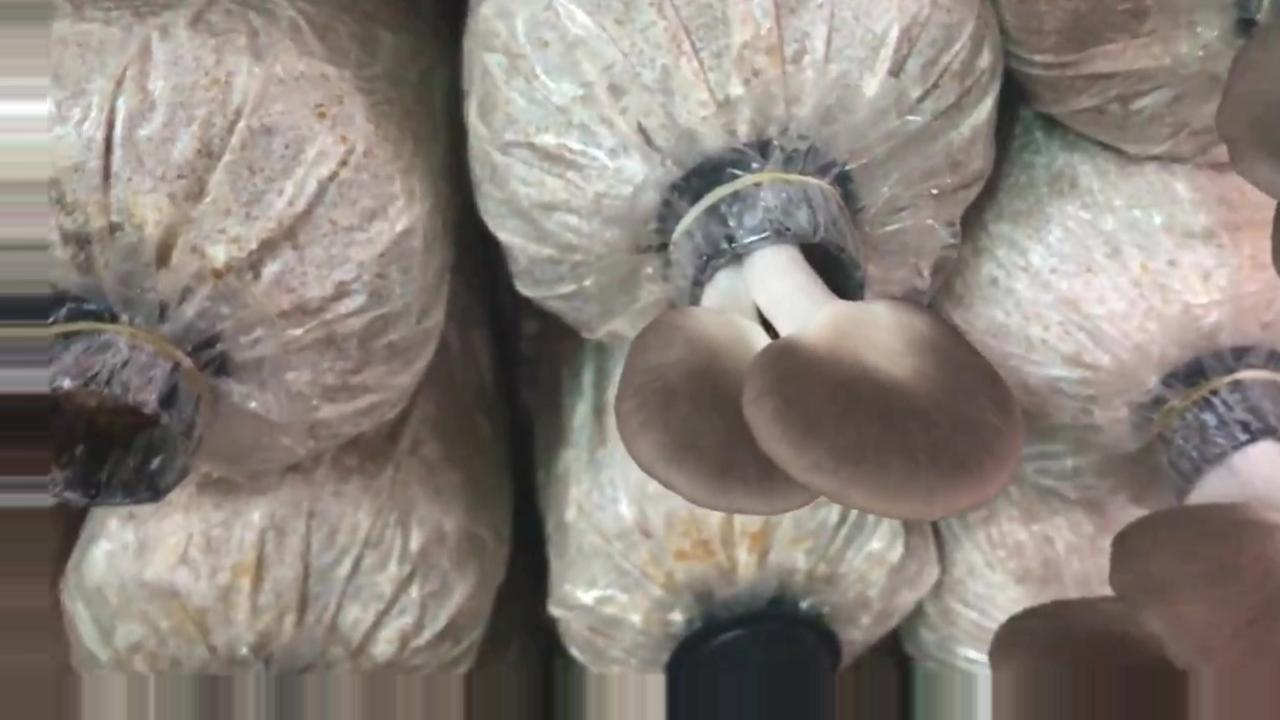nam: (620, 177, 1016, 516), (989, 385, 1279, 720)
